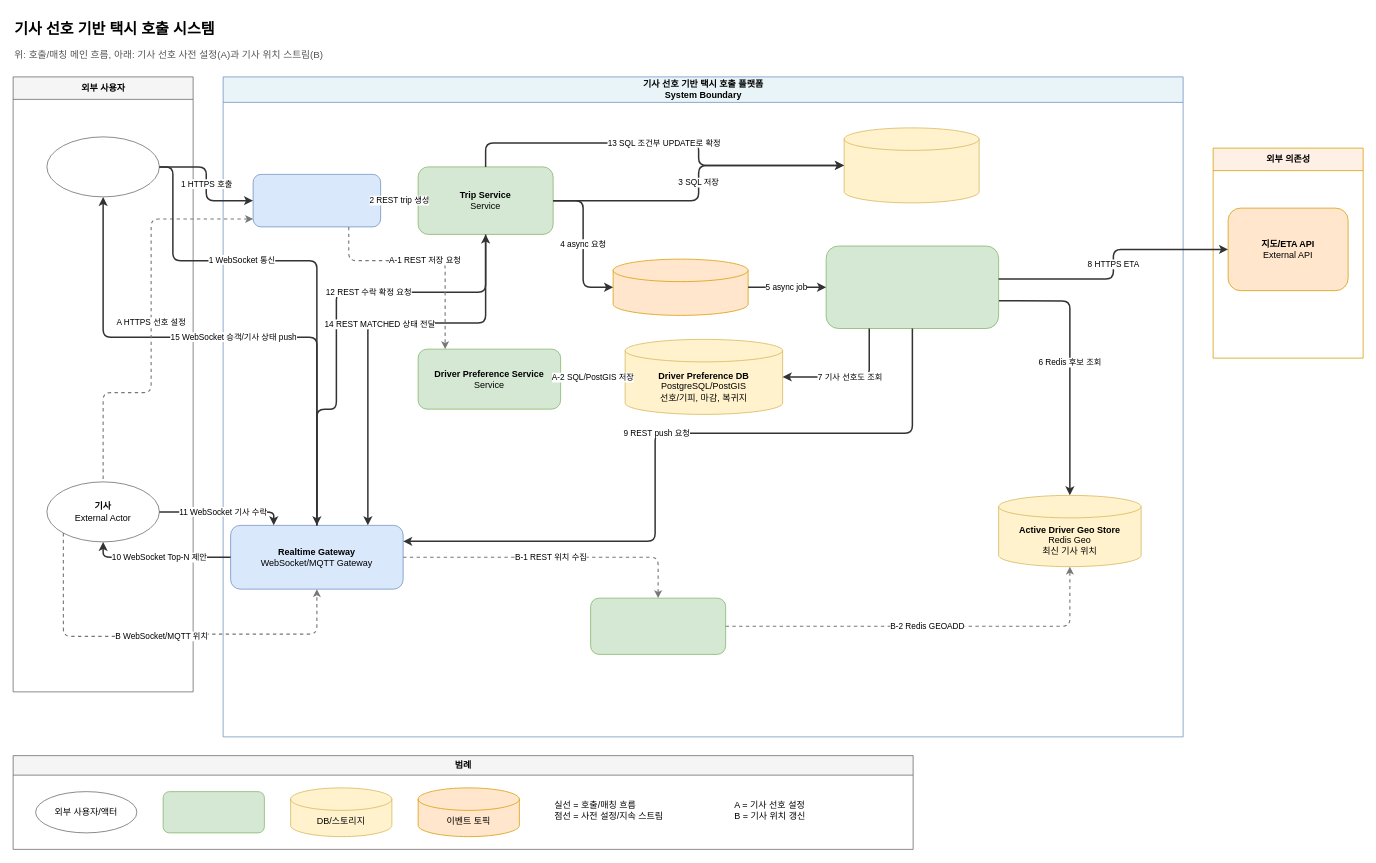
Image size: 1376x863. Some labels were removed from this diagram. Here are the shapes that lost their labels. From the top down, the centre of each, then its label:
At point 102,166: "승객 External Actor".
At point 911,165: "Trip Database PostgreSQL 조건부 UPDATE".
At point 316,200: "API Gateway HTTPS API".
At point 680,286: "Dispatch Event Topic Kafka Topic".
At point 912,286: "Preference Dispatch Service Worker Service 후보 조회 + 점수화 Top-N 배치 Push".
At point 658,625: "Location Service Service".
At point 213,812: "서비스/앱".
